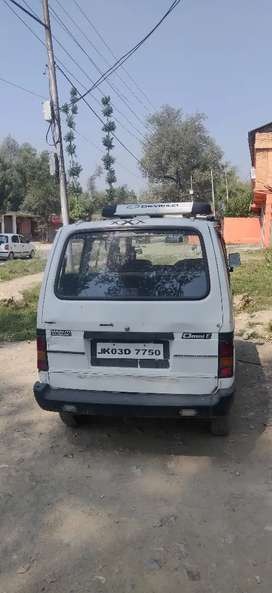JK03D7750: (94, 340, 164, 358)
